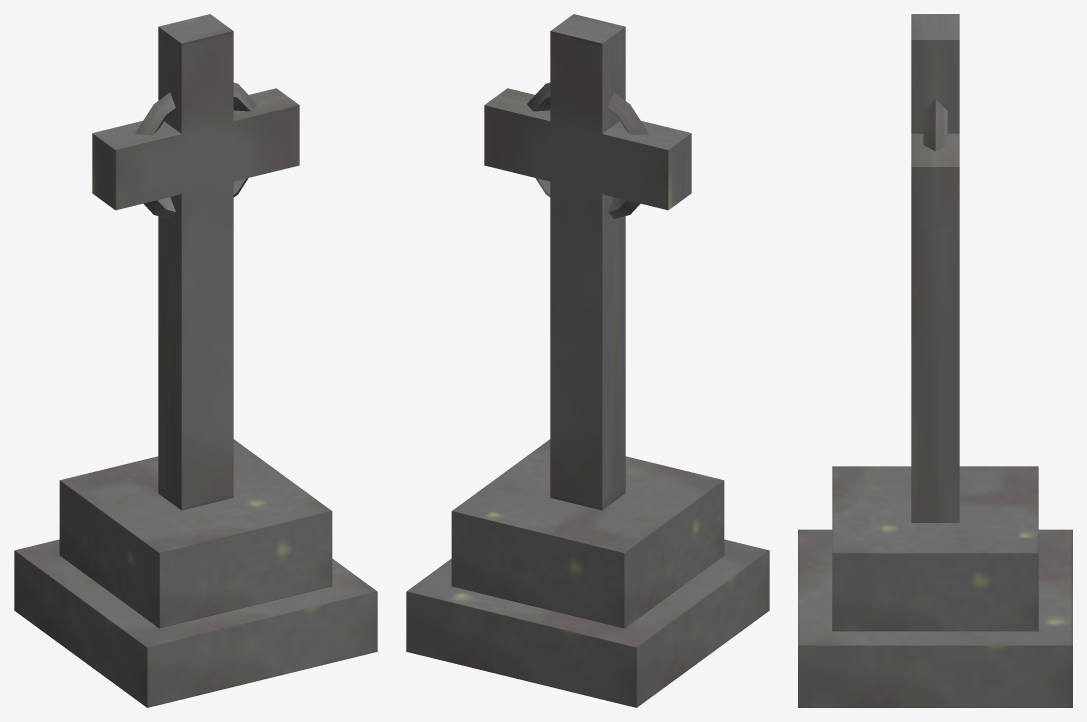
The model's file is celtic_cross.obj.
3 renders of one model, left to right at view 1: azimuth 30°, elevation 25°; view 2: azimuth 150°, elevation 25°; view 3: azimuth 270°, elevation 25°, orthographic. The views are drawn at different scales.
Parts seen in each view (by area): view 1: celtic_cross; view 2: celtic_cross; view 3: celtic_cross.
Boxes of the visible parts, x1,y1,x2,y2 form: celtic_cross: (14, 14, 377, 707); celtic_cross: (406, 14, 769, 707); celtic_cross: (798, 14, 1072, 707).
Size of the model in its own units: 0.8 by 2 by 0.8.
1 material, 1 textured.
